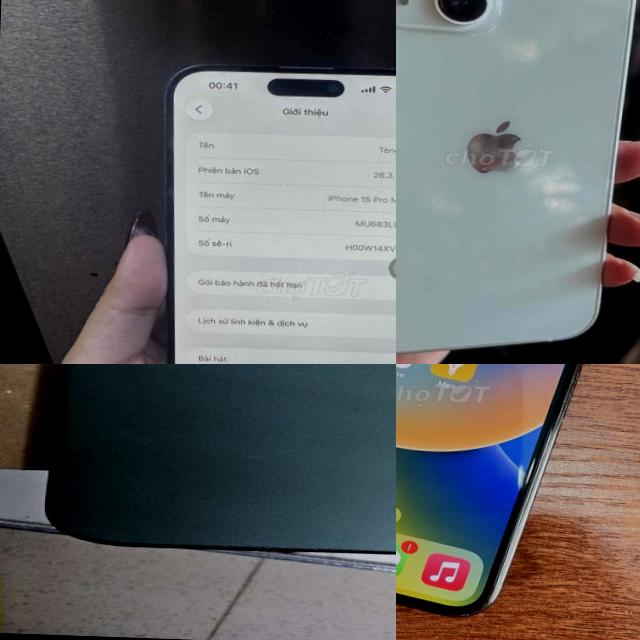scratch: (458, 116, 528, 176)
